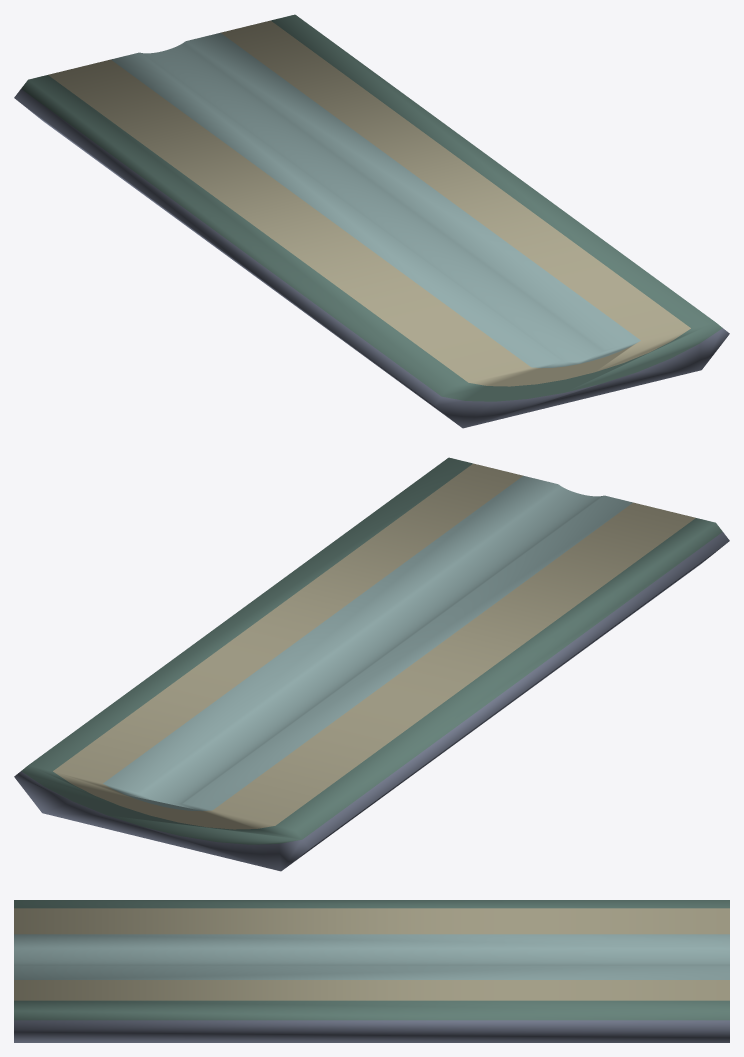
Rendered from Junk3.fbx.
3 renders of one model, top to bottom at view 1: azimuth 30°, elevation 25°; view 2: azimuth 150°, elevation 25°; view 3: azimuth 270°, elevation 25°, orthographic. The views are drawn at different scales.
Visible parts, largest first — view 1: Model; view 2: Model; view 3: Model.
Part boxes in pixels (left/top/right/bottom): Model: left=14, top=14, right=729, bottom=428; Model: left=14, top=457, right=729, bottom=871; Model: left=14, top=900, right=729, bottom=1042.
Bounding box in the file's own units: 79.77 × 11.45 × 197.
